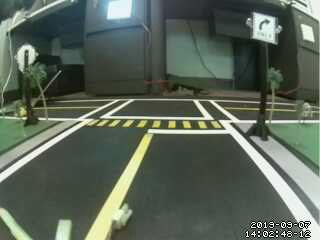Right_only_sign: (251, 10, 278, 48)
